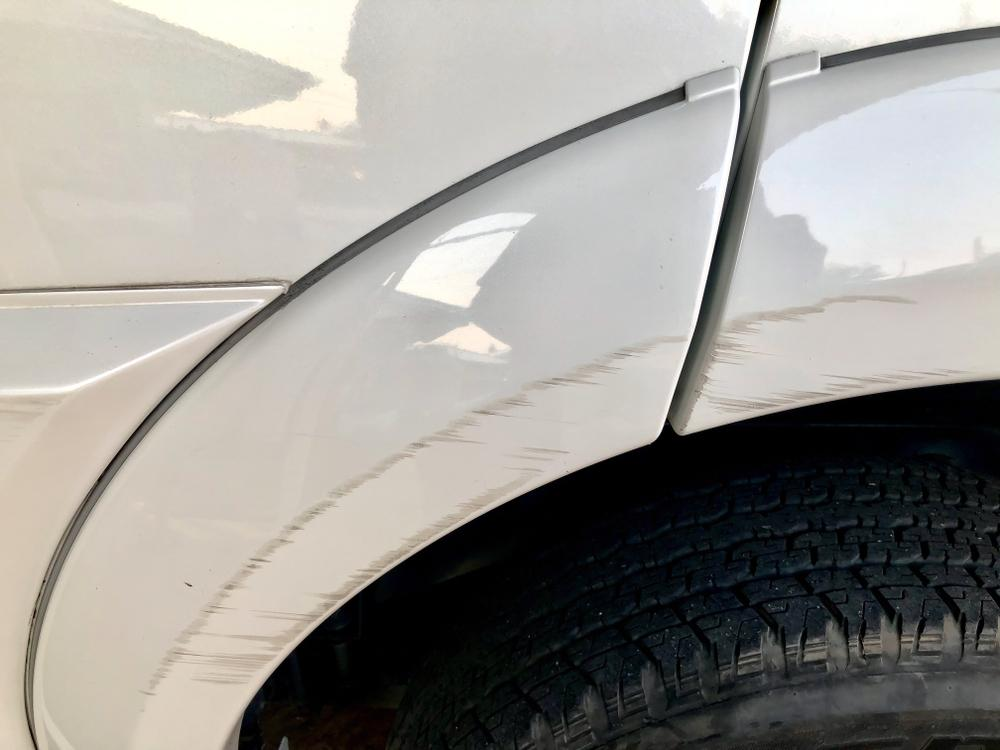scratch: (133, 332, 693, 703), (688, 288, 978, 421)
